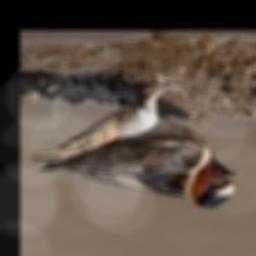Swallow: (33, 86, 239, 208)
